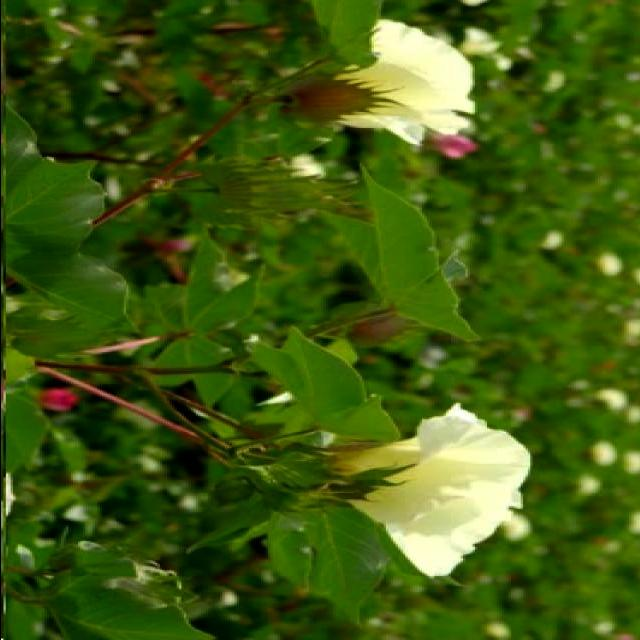Cotton Blossom: (245, 394, 543, 586), (280, 16, 489, 146)
Cotton Bud: (181, 154, 389, 228)
